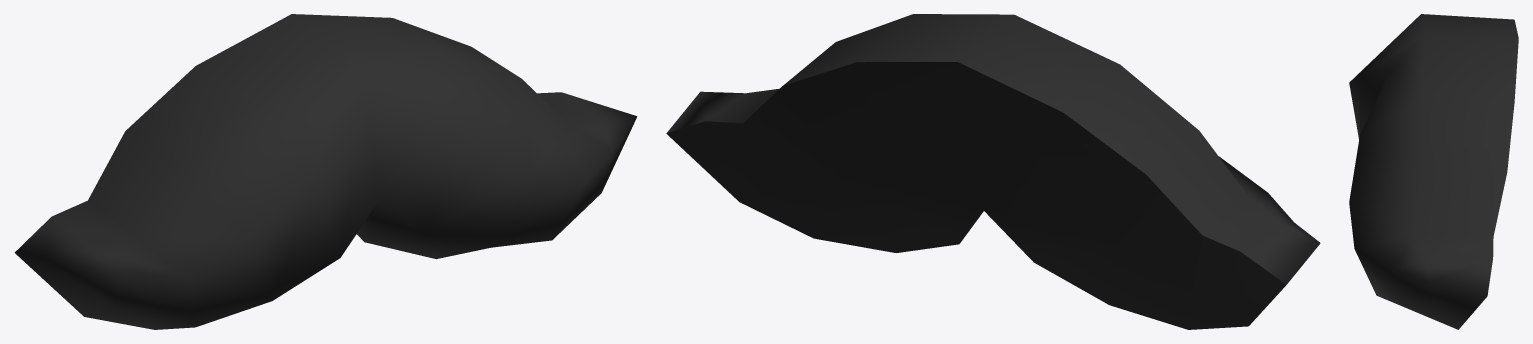
The model's file is Mustache_8.fbx.
The picture shows the model from 3 angles, left to right: view 1: azimuth 30°, elevation 25°; view 2: azimuth 150°, elevation 25°; view 3: azimuth 270°, elevation 25°; orthographic projection. The views are drawn at different scales.
Parts seen in each view (by area): view 1: Mustache_8; view 2: Mustache_8; view 3: Mustache_8.
Part boxes in pixels (bbox=[...]): Mustache_8: bbox=[14, 14, 637, 329]; Mustache_8: bbox=[666, 14, 1320, 329]; Mustache_8: bbox=[1349, 14, 1518, 329].
Size of the model in its own units: 25.76 by 10.32 by 7.4.
